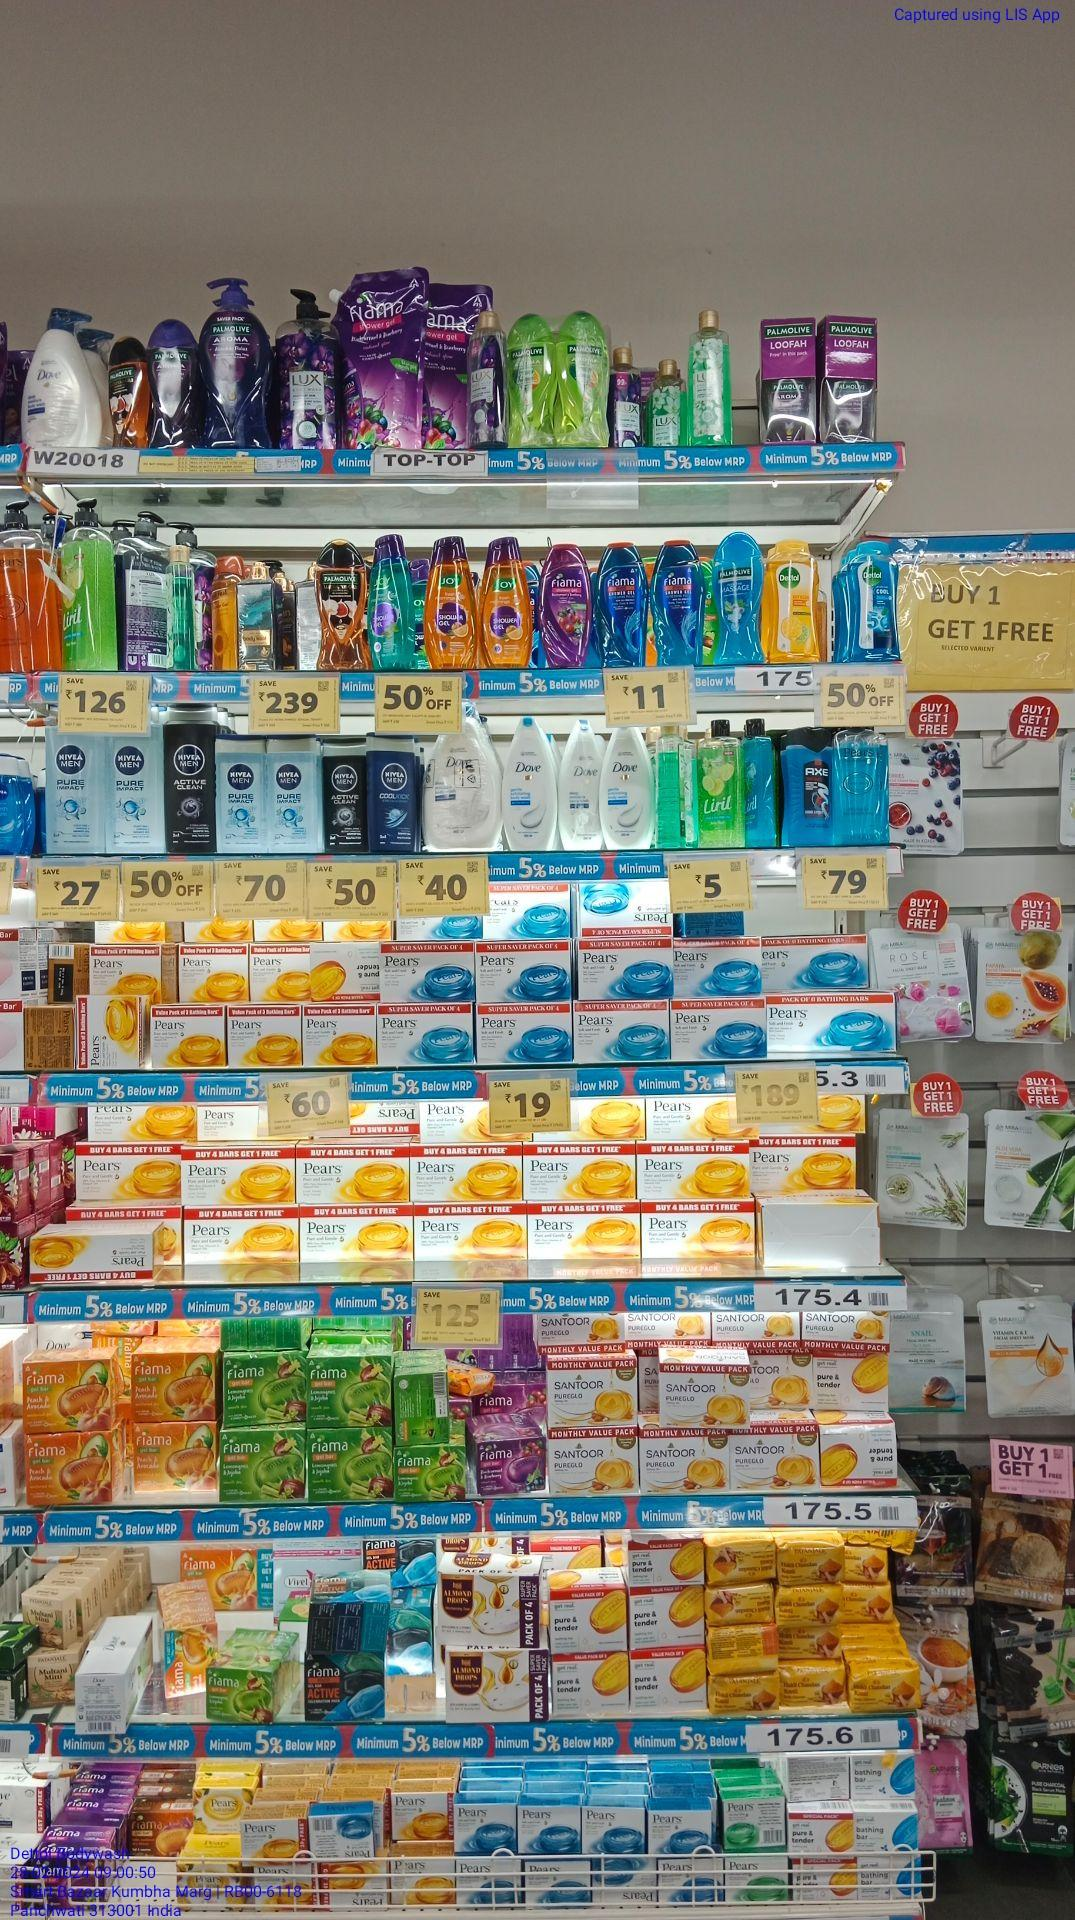Dettol_Bodywash_Cool: (852, 539, 898, 663)
Dettol_Bodywash_Refresh: (768, 538, 819, 665)
Dove_Deep_Moisture_Body_Wash_250ML: (559, 717, 600, 852)
Dove_Gentle_Exfoliating_Body_Wash_250ML: (504, 715, 555, 852), (605, 728, 653, 855)
Joy_Shower_Gel_Mandarin_and_Lemongrass_250ML: (427, 535, 475, 674), (479, 539, 528, 670)
Joy_Shower_Gel_Mint_and_Eucalyptus_250ML: (367, 531, 409, 673)
Liril_Cooling_Mint_Body_Wash_250ML: (745, 715, 777, 849)
Liril_Lime_and_Tea_Tree_Oil_Body_Wash_250ML: (699, 715, 739, 848)
Lux_Black_Orchid_Scent_and_Juniper_Oil_Body_Wash_245ML: (468, 310, 504, 451), (612, 342, 642, 446)
Lux_Body_Wash_Skin_Detox_Freesia_Scent_and_Alove_Vera_245ML: (686, 306, 732, 448), (649, 357, 683, 447)
Palmolive_Aroma_Moments_Feel_The_Massage_Shower_Gel_250ML: (714, 531, 766, 669)
Palmolive_Aroma_Morning_Tonic_Shower_Gel_250ML: (508, 309, 559, 448), (561, 307, 609, 448)
Palmolive_Aroma_Relax_250ML: (149, 318, 199, 450)
Palmolive_Luminous_Oils_With_White_Orchid_Shower_Gel_250ML: (318, 535, 365, 674), (107, 332, 146, 450)
